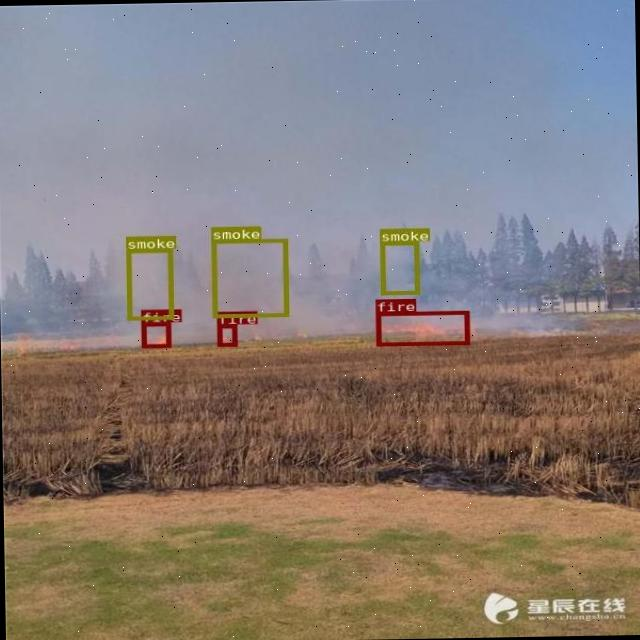fire: (374, 310, 468, 345), (141, 322, 170, 346), (216, 324, 235, 344)
smoke: (211, 238, 287, 316), (126, 248, 172, 320), (378, 240, 418, 294)
